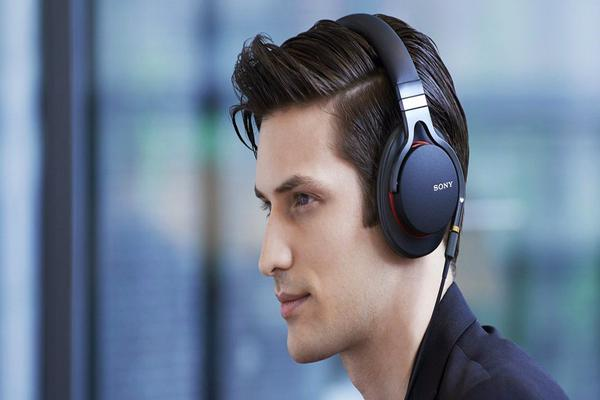headphone: (193, 11, 526, 329)
